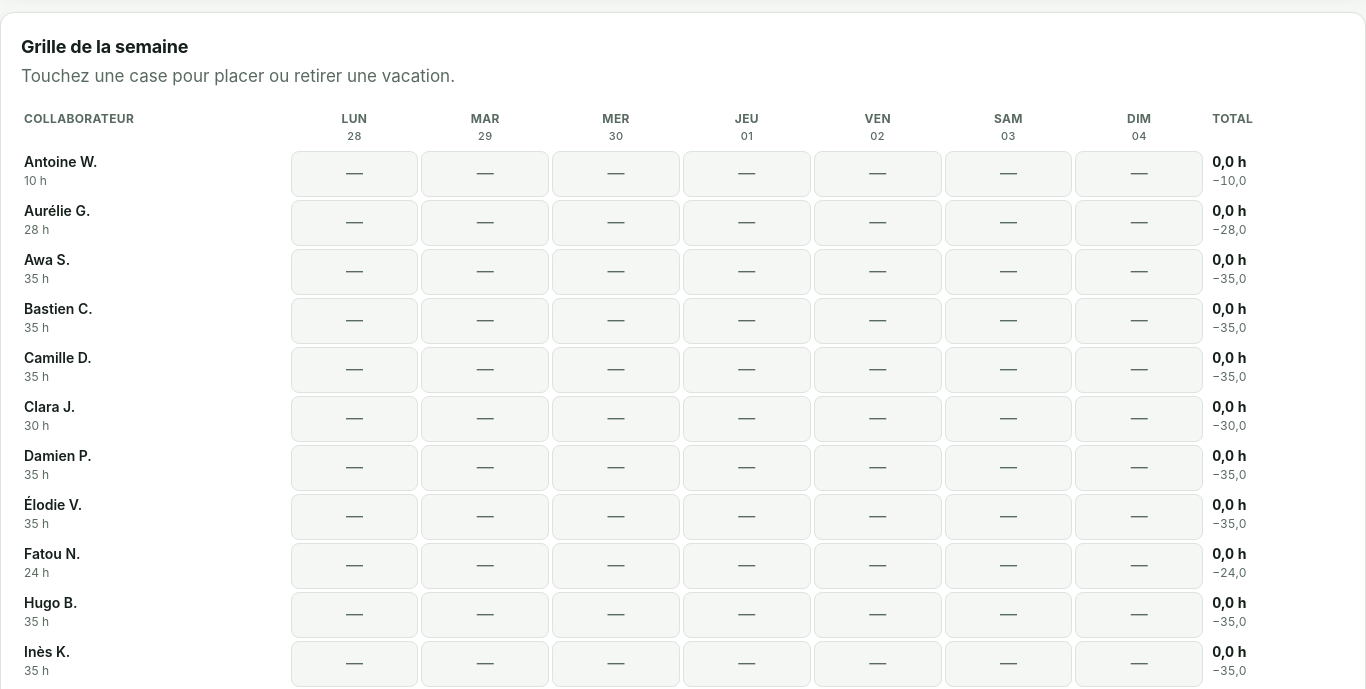
équité sur quatre semaines › compte un samedi dès qu’il est posé
(page scrolled)
What coordinates should you click on to do the following:
click the button named "Camille D., samedi"
I would click on:
 (1008, 370)
Its box is [945,347,1072,393].
(page scrolled)
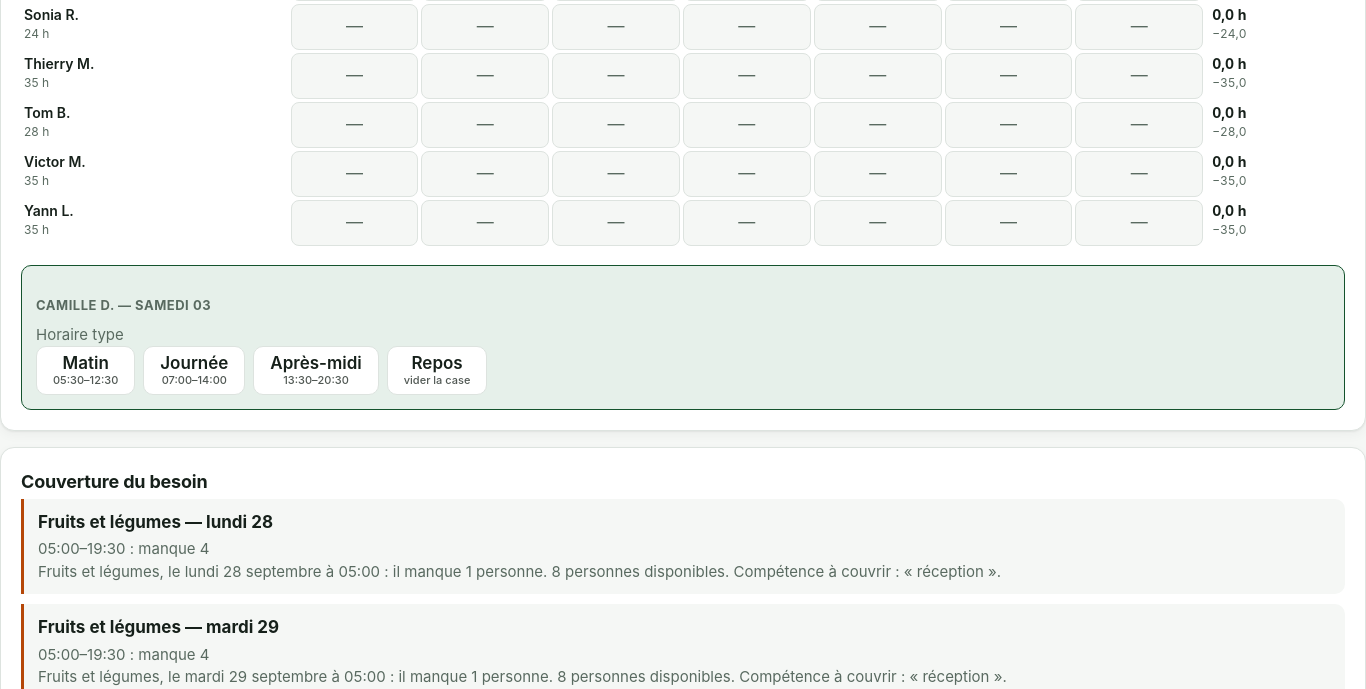
What coordinates should you click on to do the following:
click the button "Matin 05:30–12:30"
I would click on:
 (86, 370)
Its box is [36,346,135,395].
(page scrolled)
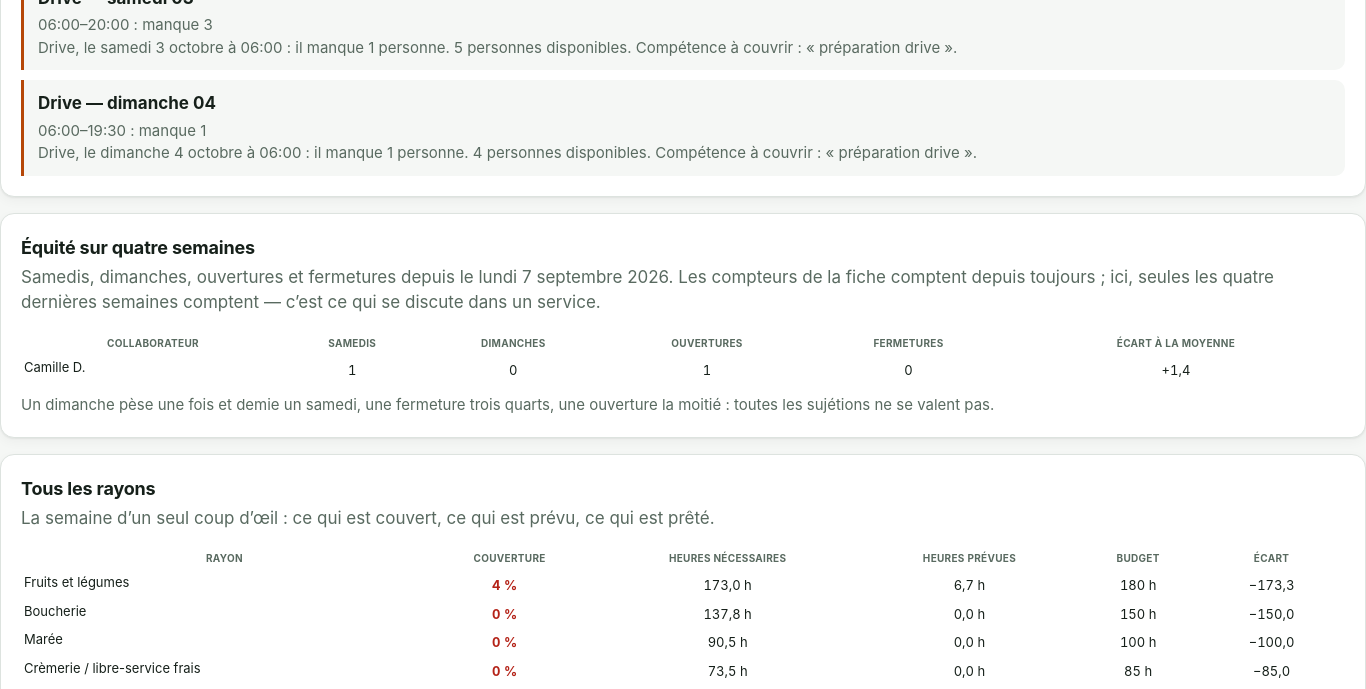
Check: the 1st text "1" is shown, box [285,358,420,383]
